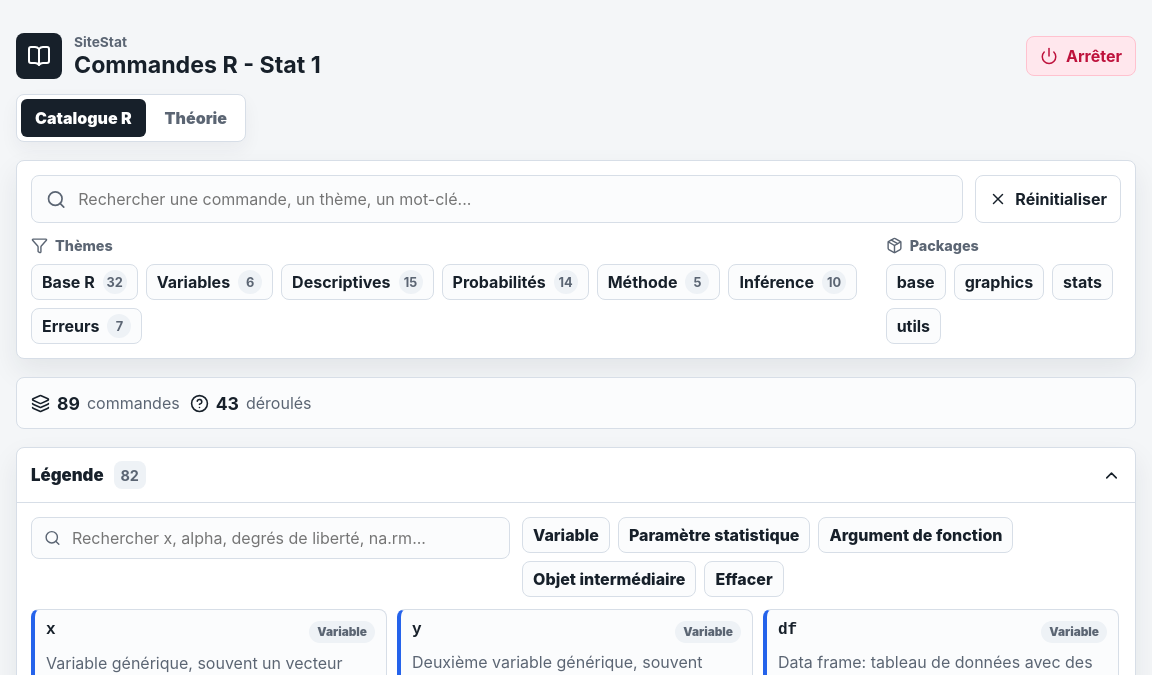
App › revient au catalogue depuis une commande liée dans la théorie
The width and height of the screenshot is (1152, 675).
Step 1. Click the button "Théorie" → point(196, 118), box [151,99,241,137]
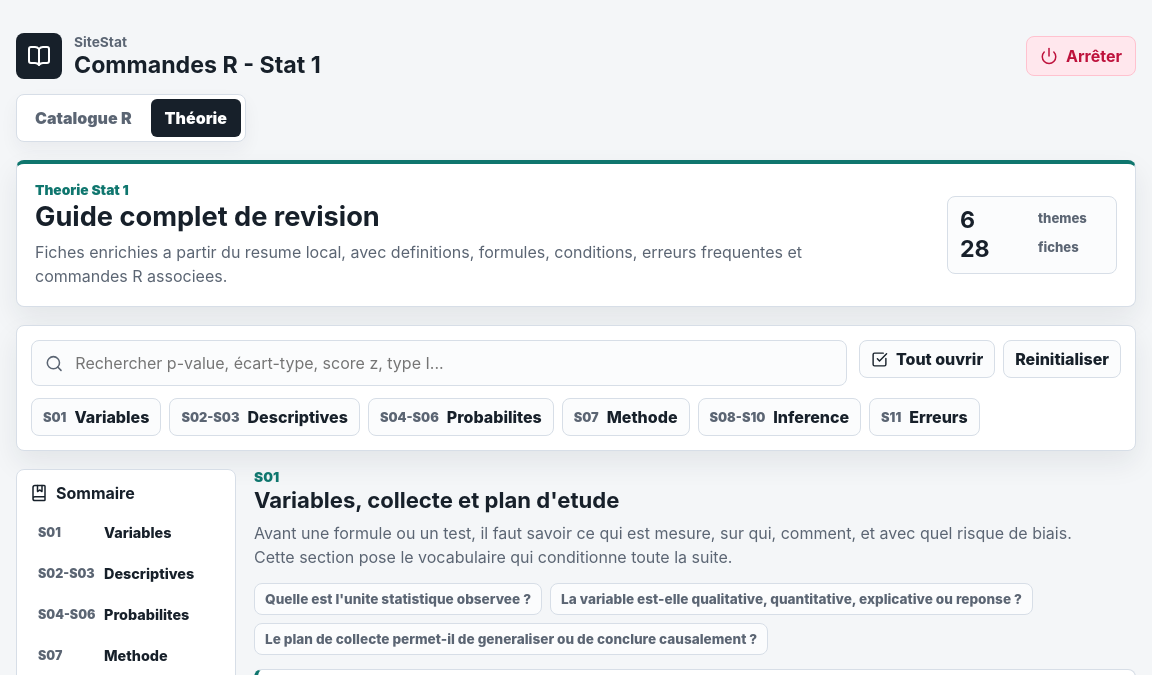
Step 2. Type "famille des tests t" into the search field named "Rechercher dans la théorie" → point(453, 363), box [73,352,833,374]
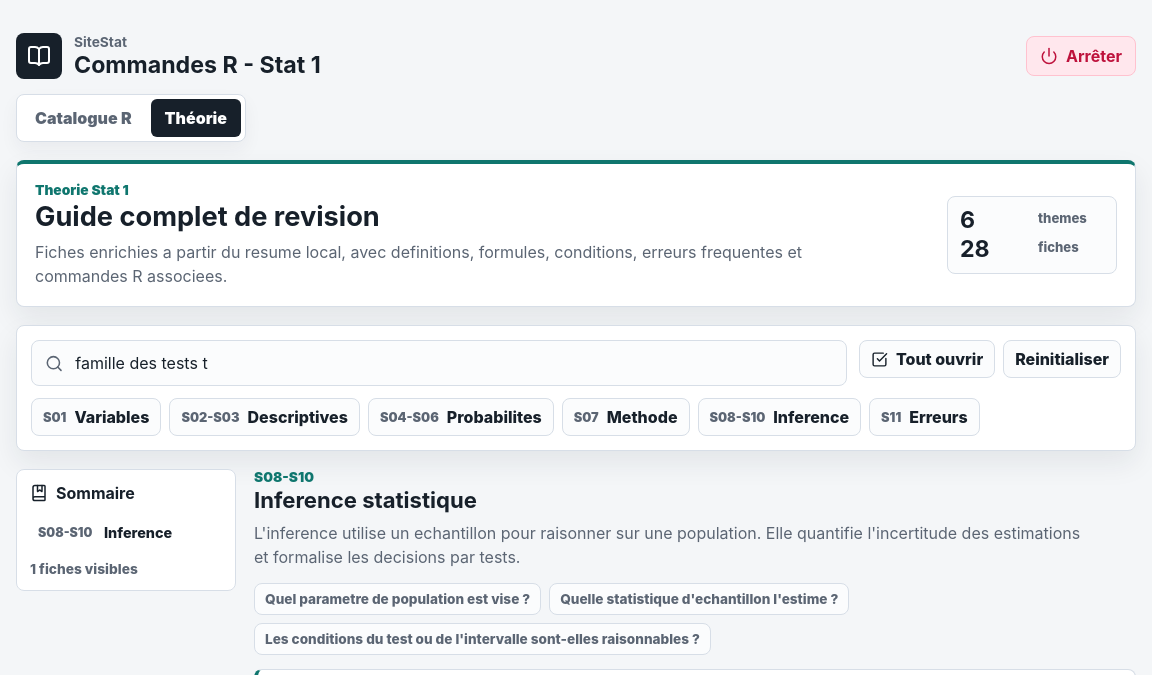
Step 3. Click the button "Tout ouvrir" → point(927, 359), box [859,340,995,378]
(page scrolled)
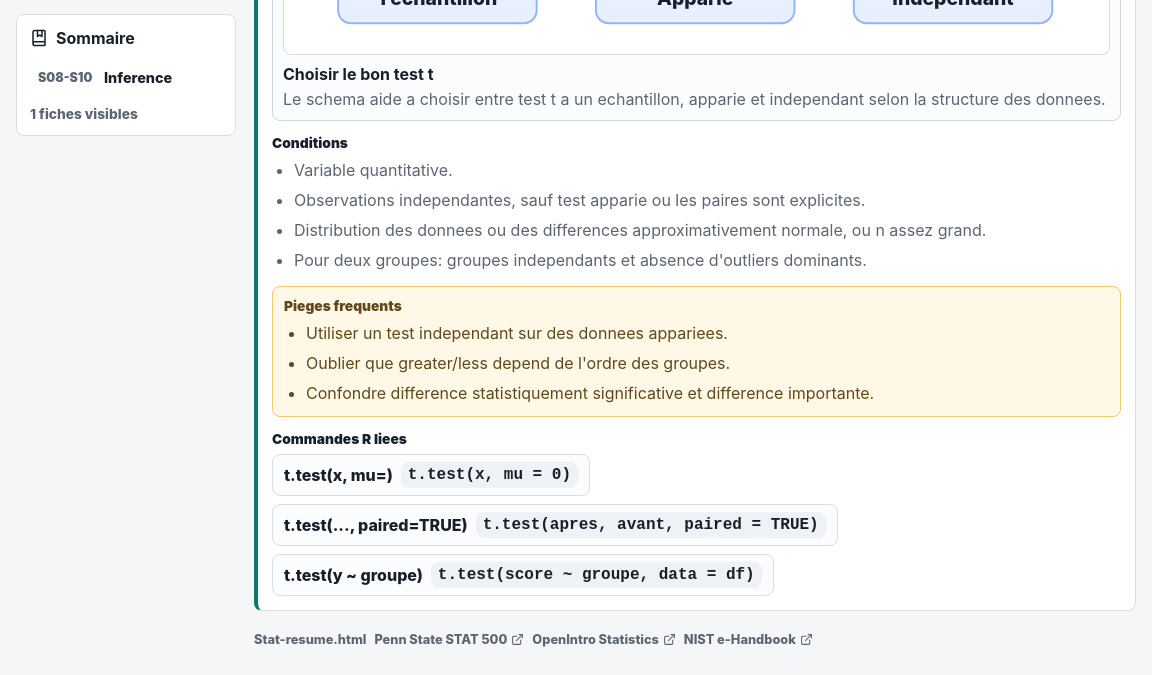
Step 4. Click the button "t.test(x, mu=) t.test(x, mu = 0)" → point(431, 476), box [272,454,590,496]
(page scrolled)
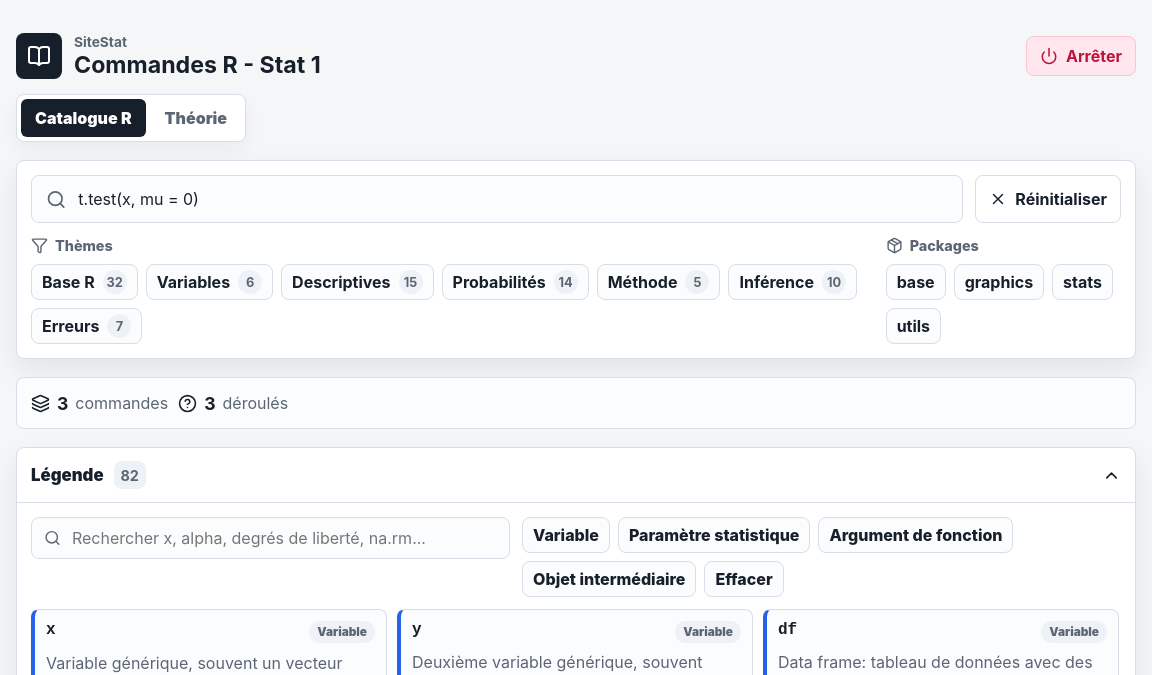
Check: the search field named "Rechercher une commande, un thème, un mot-clé..." holds "t.test(x, mu = 0)", box [76,188,948,210]
